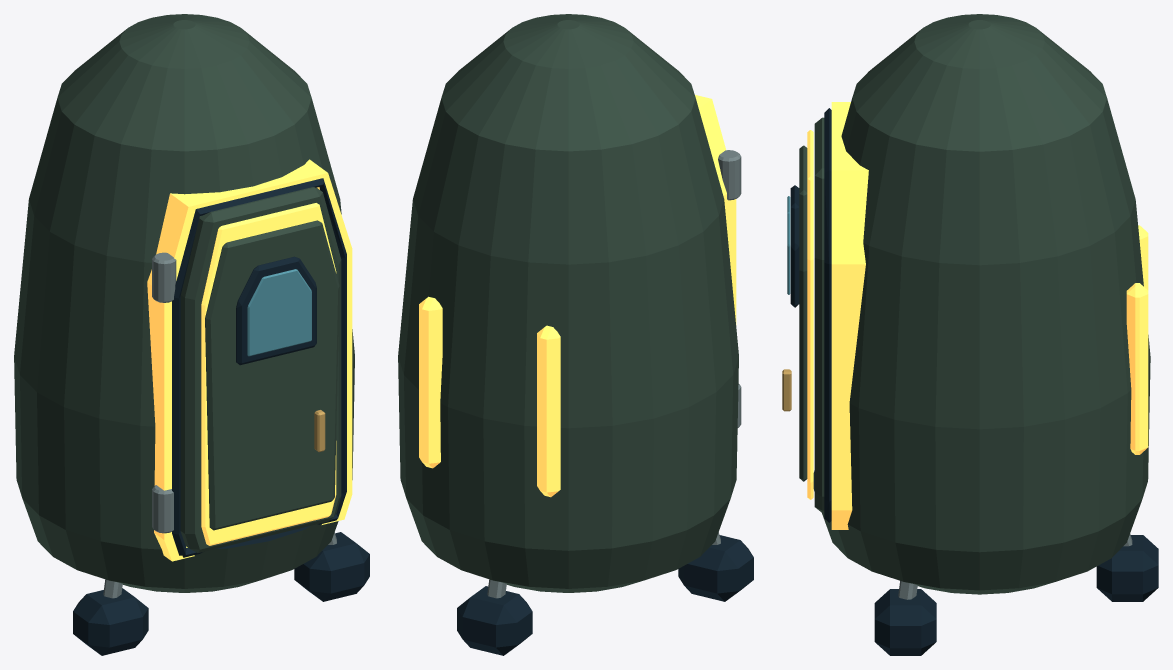
The model's file is ESCAPE_POD.lo.glb.
3 renders of one model, left to right at view 1: azimuth 30°, elevation 25°; view 2: azimuth 150°, elevation 25°; view 3: azimuth 270°, elevation 25°, orthographic.
Parts seen in each view (by area): view 1: Body_Mesh, HatchPivot_Mesh; view 2: Body_Mesh; view 3: Body_Mesh, HatchPivot_Mesh.
Boxes of the visible parts, bbox=[...] form: Body_Mesh: bbox=[14, 14, 369, 655]; HatchPivot_Mesh: bbox=[180, 187, 341, 552]; Body_Mesh: bbox=[398, 14, 753, 655]; Body_Mesh: bbox=[813, 14, 1158, 655]; HatchPivot_Mesh: bbox=[782, 117, 824, 512].
Bounding box in the file's own units: 0.55 × 1.01 × 0.6055.
1 material, 1 textured.
